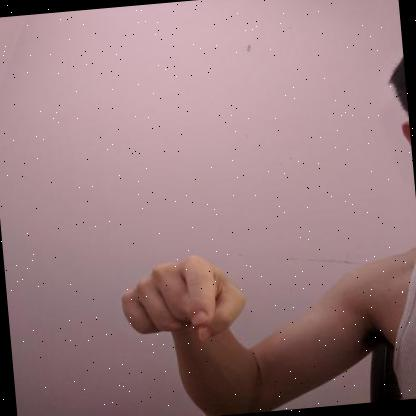Z: (121, 255, 246, 341)
